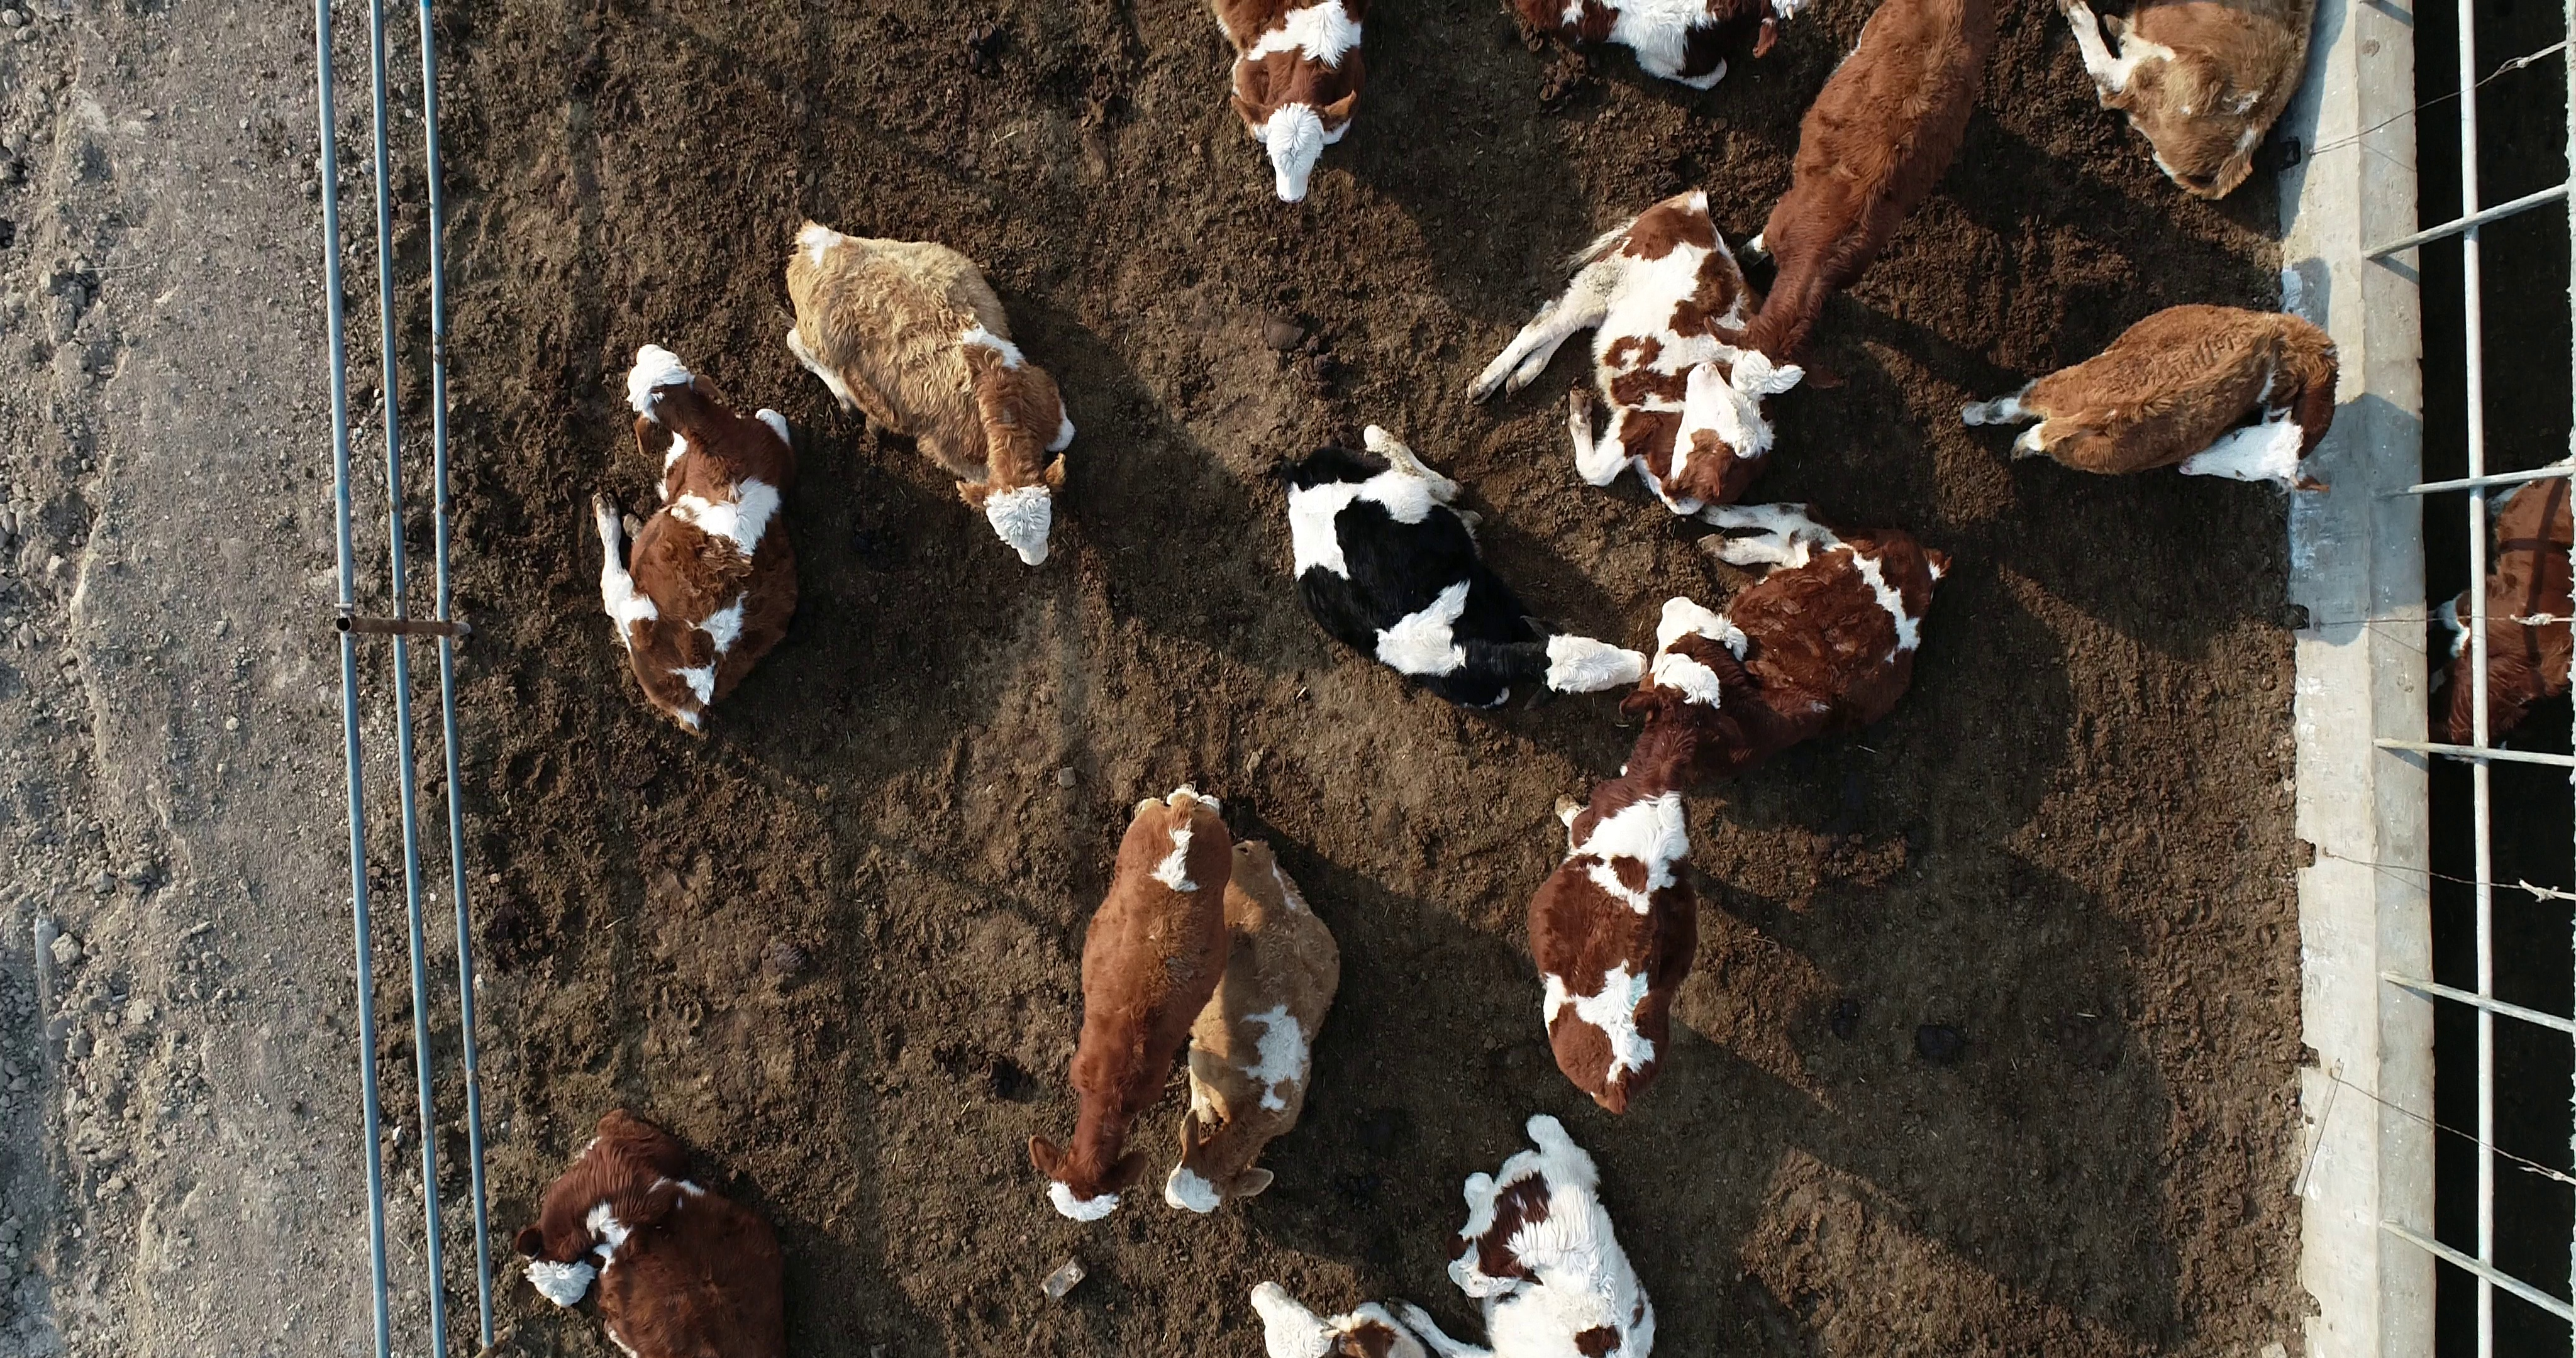cattle: (1261, 423, 1654, 722), (1523, 649, 1751, 1118), (782, 216, 1080, 571), (1026, 780, 1235, 1227), (588, 339, 802, 745), (1956, 300, 2343, 496)
